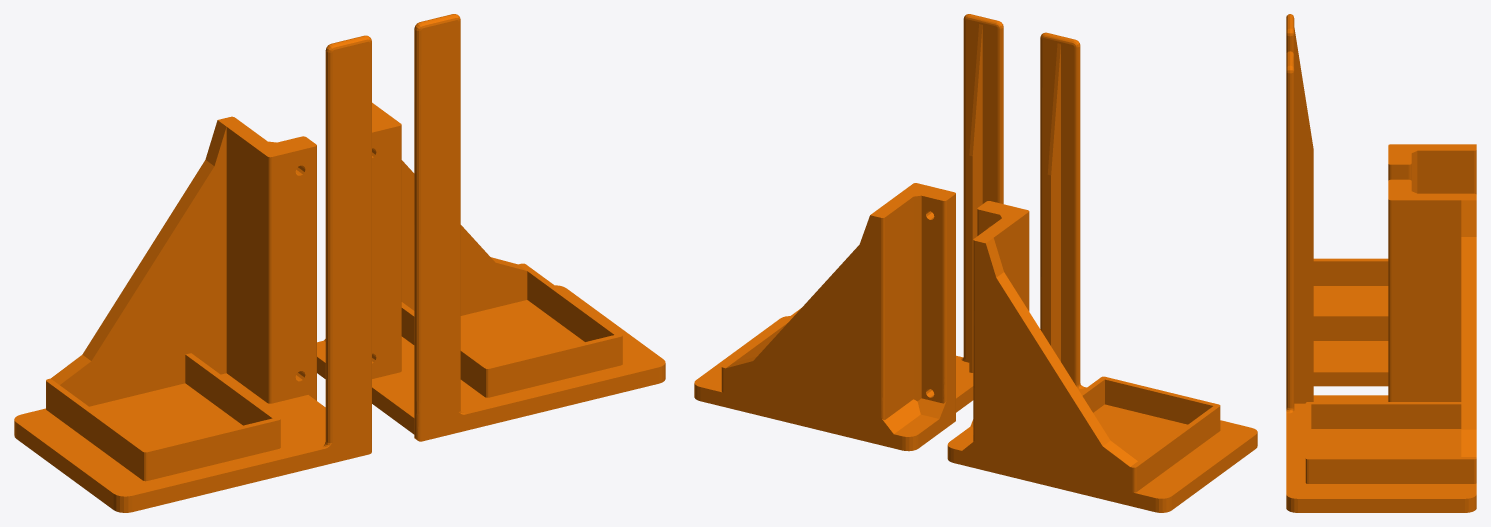
The model's file is Z333Shelves.glb.
3 views of the same model, side by side, from view 1: azimuth 30°, elevation 25°; view 2: azimuth 150°, elevation 25°; view 3: azimuth 270°, elevation 25° (orthographic). The views are drawn at different scales.
Visible parts, largest first — view 1: Z333Shelves_LowRes; view 2: Z333Shelves_LowRes; view 3: Z333Shelves_LowRes.
Part boxes in pixels (box(x1,y1,x2,y2)): Z333Shelves_LowRes: box(14, 14, 665, 512); Z333Shelves_LowRes: box(694, 14, 1257, 512); Z333Shelves_LowRes: box(1286, 14, 1476, 512).
Size of the model in its own units: 280 by 203 by 98.
